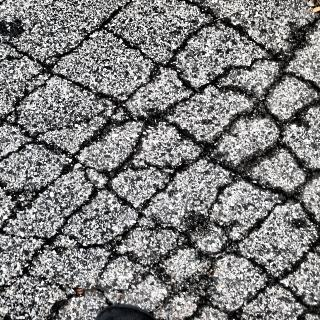alligator-crack: (9, 11, 304, 314)
